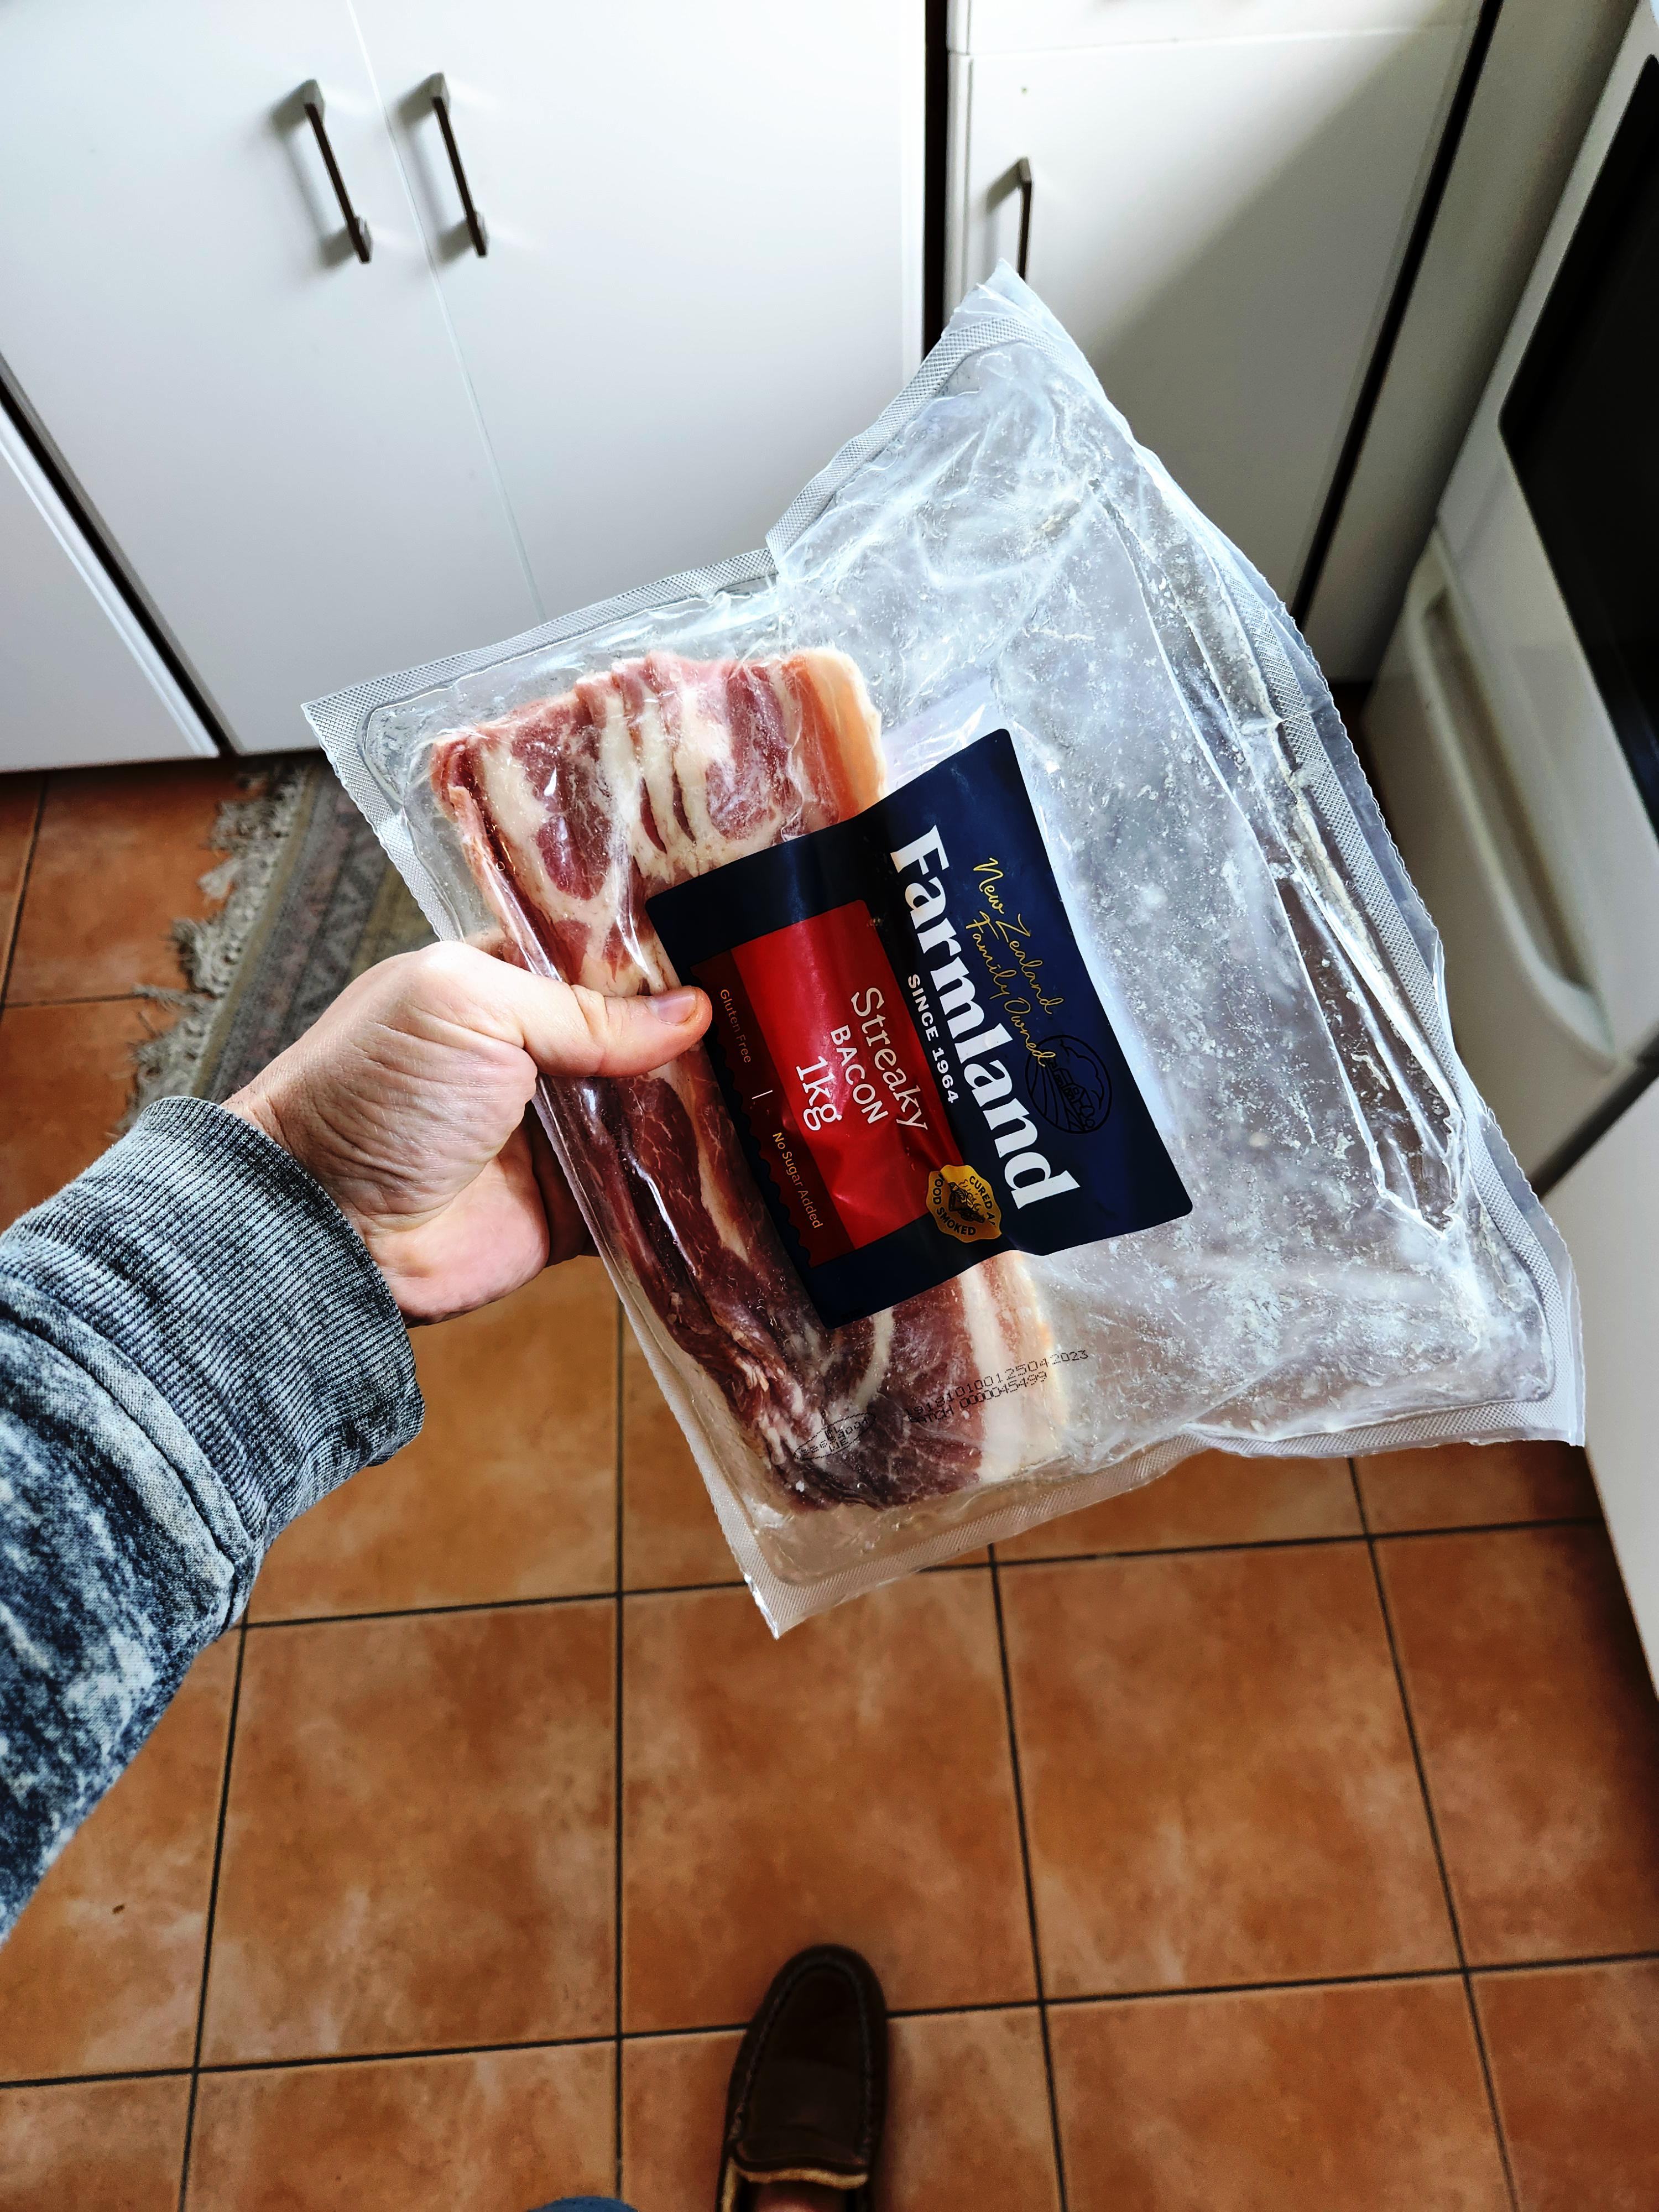bacon: (225, 362, 1192, 2179)
